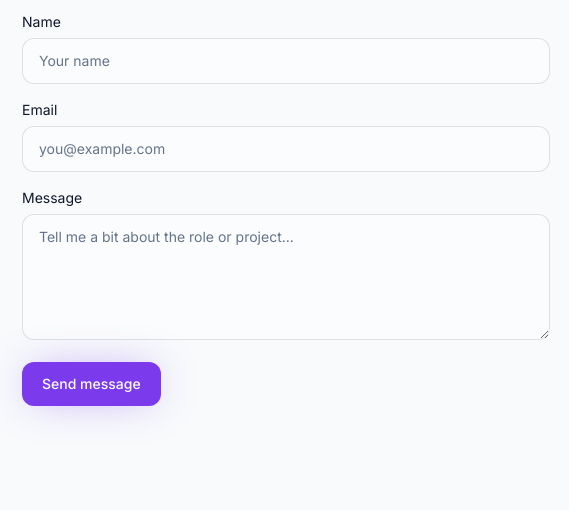
Test: ContactForm › shows validation errors when submitted empty
Click the button "Send message" at {"x": 91, "y": 384}, box [22,362,161,406]
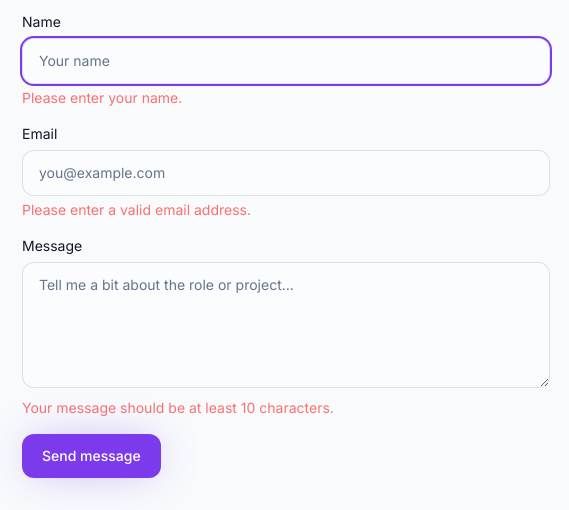
Expected: the text "Please enter your name." is shown, [22,89,182,106]
Expected: the text "Please enter a valid email address." is shown, [22,201,251,218]
Expected: the text "Your message should be at least 10 characters." is shown, [22,399,334,416]
